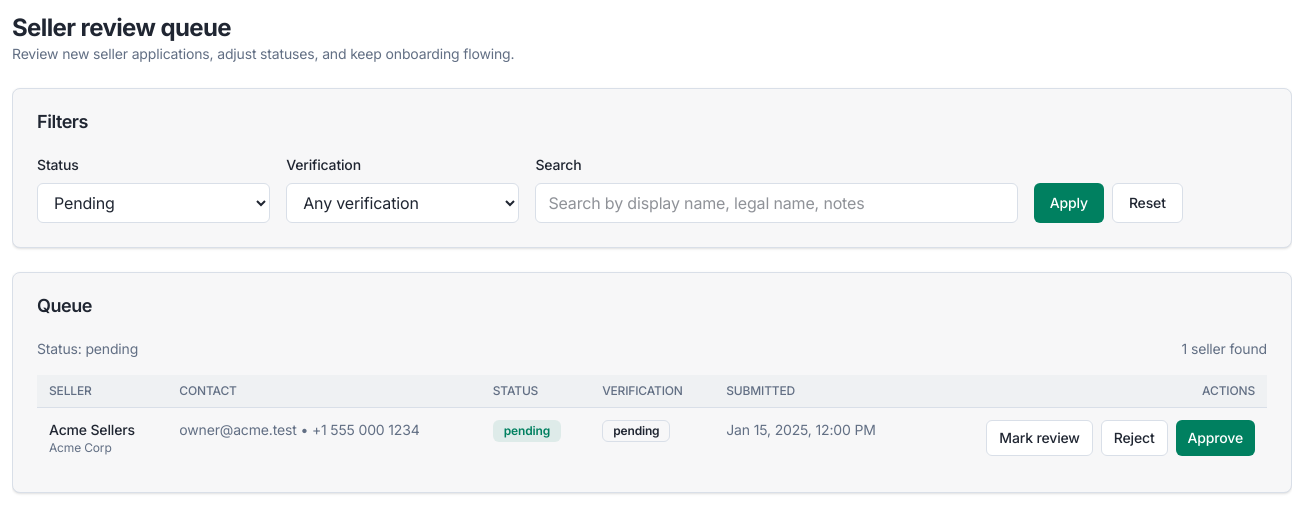
Test: AdminSellerReviewPage › loads pending sellers and approves an application
This screenshot has width=1292, height=511.
Click the button "Approve".
click(1215, 438)  # box [1176,420,1255,456]
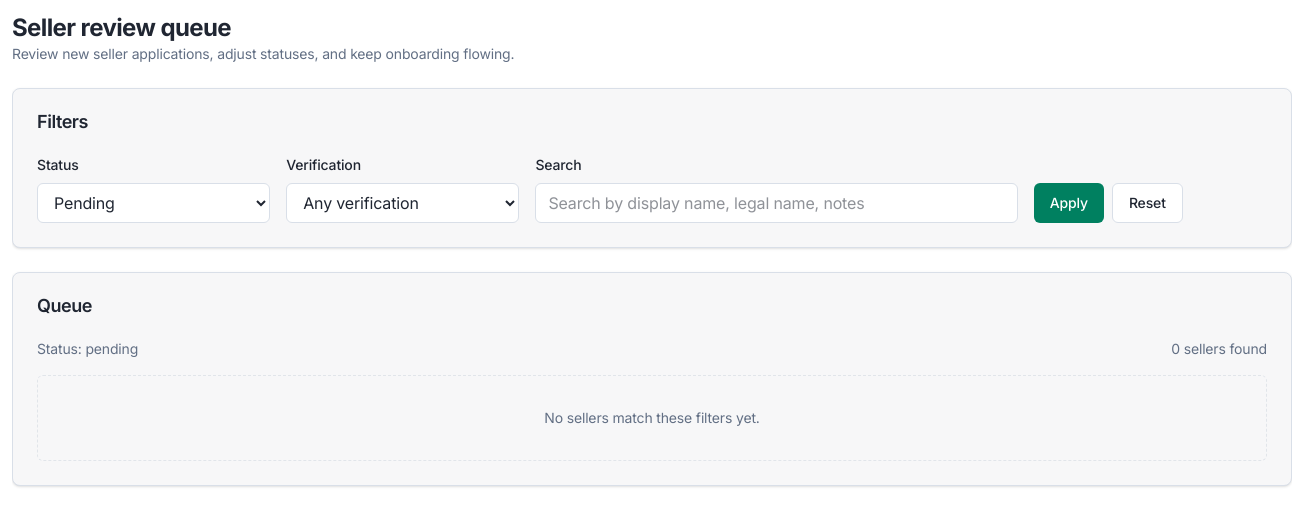
Check: the text "Acme Sellers" is gone
